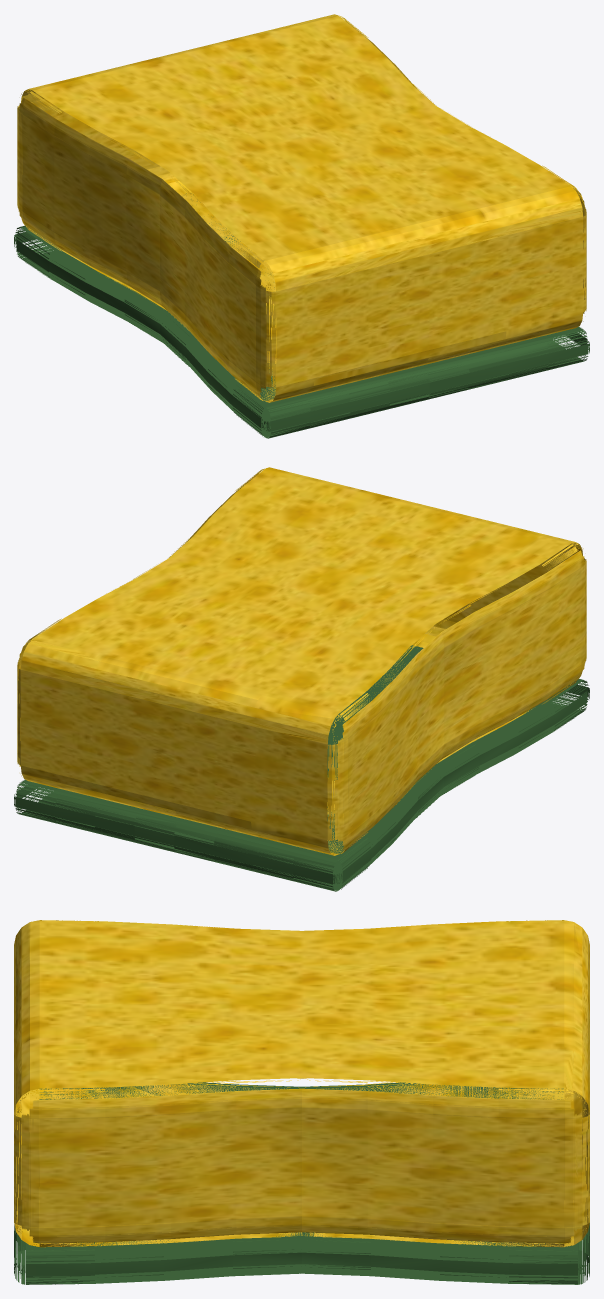
3 renders of one model, top to bottom at view 1: azimuth 30°, elevation 25°; view 2: azimuth 150°, elevation 25°; view 3: azimuth 270°, elevation 25°, orthographic. The views are drawn at different scales.
Visible parts, largest first — view 1: body; view 2: body; view 3: body.
Part boxes in pixels (x1,y1,x2,y2): body: (14,14,589,438); body: (14,467,589,891); body: (14,920,589,1284).
Size of the model in its own units: 0.0615 by 0.0309 by 0.0835.
2 materials, 1 textured.
